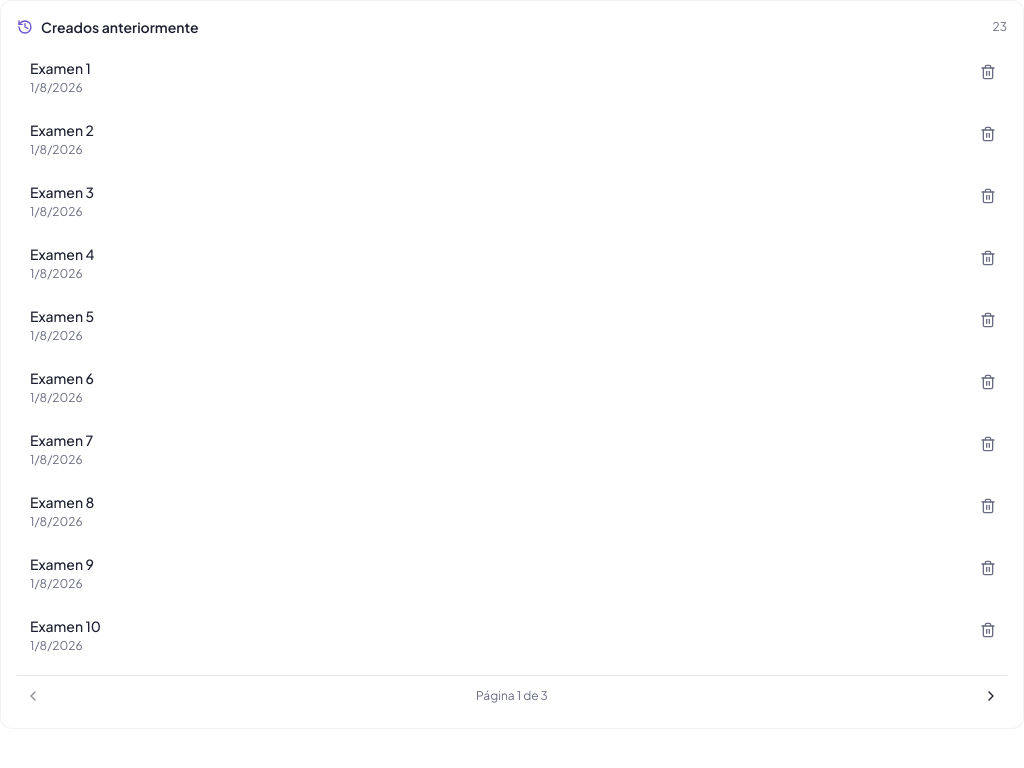
Test: Franja de historial por módulo › avanza y retrocede de página
Expected: the text "Examen 1" is shown, [30,59,91,77]
Click the button named "Página siguiente" at coordinates (991, 696), box [975,680,1007,712]
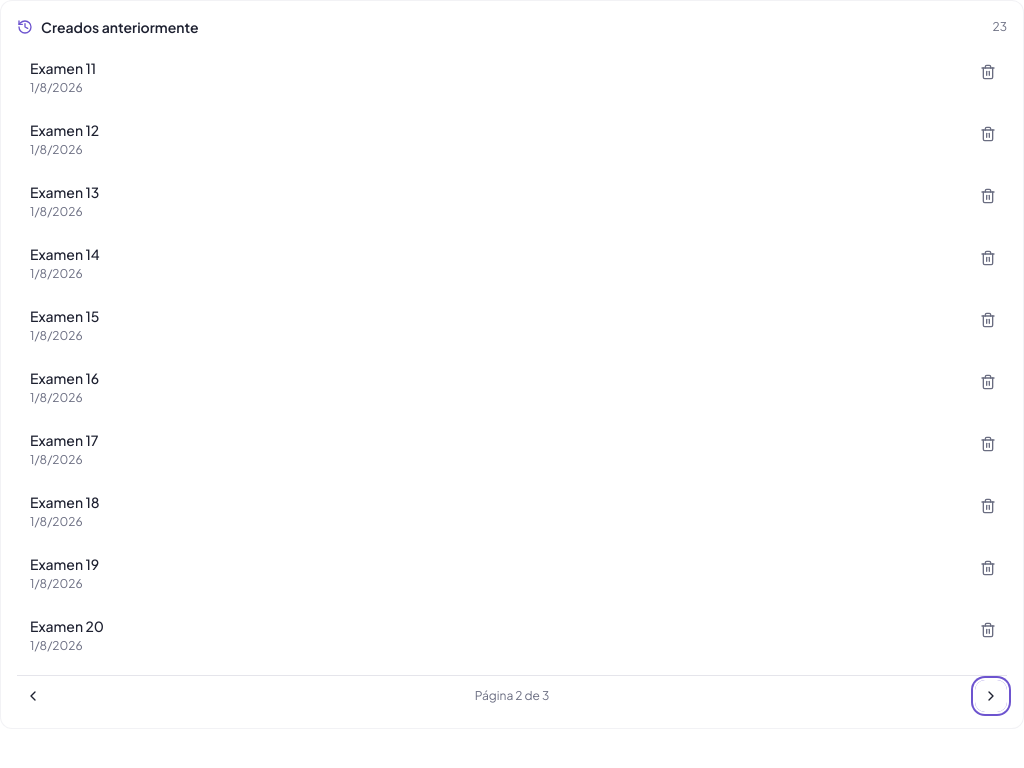
Result: the text "Examen 11" is shown at [30,59,96,77]
Result: the text "Página 2 de 3" is shown at [475,688,549,704]
Click the button named "Página siguiente" at coordinates (991, 696), box [975,680,1007,712]
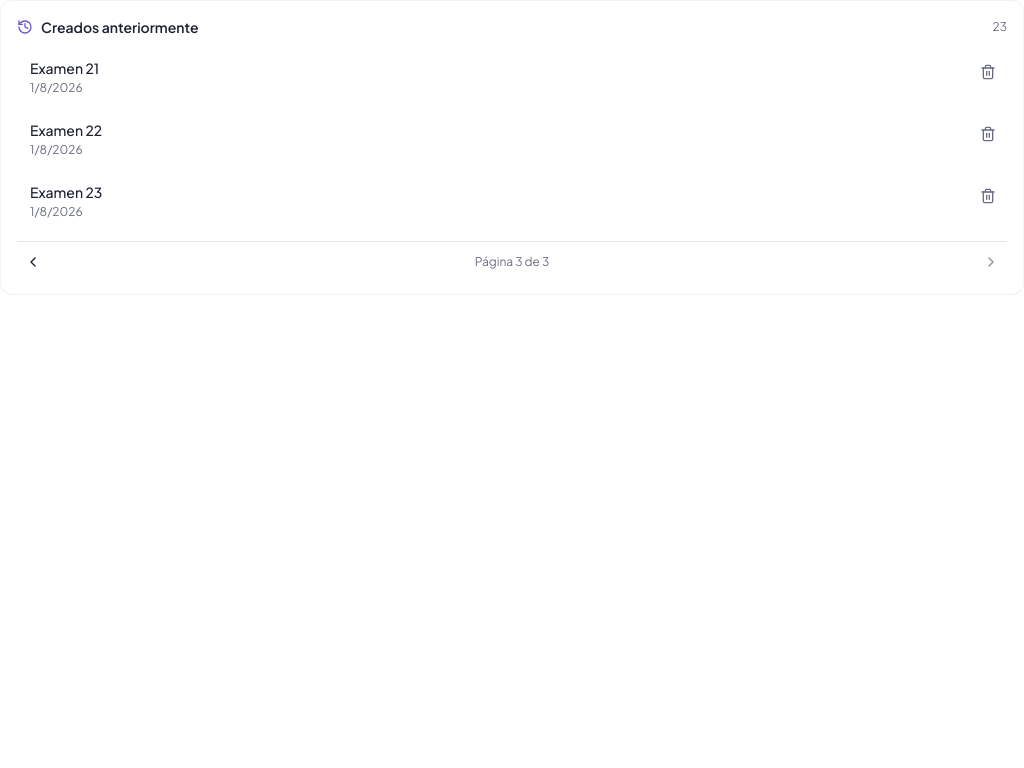
Result: the text "Página 3 de 3" is shown at [475,254,549,270]
Result: the text "Examen 23" is shown at [30,183,102,201]
Result: the button named "Página siguiente" is disabled at [975,246,1007,278]
Click the button named "Página anterior" at coordinates (33, 262), box [17,246,49,278]
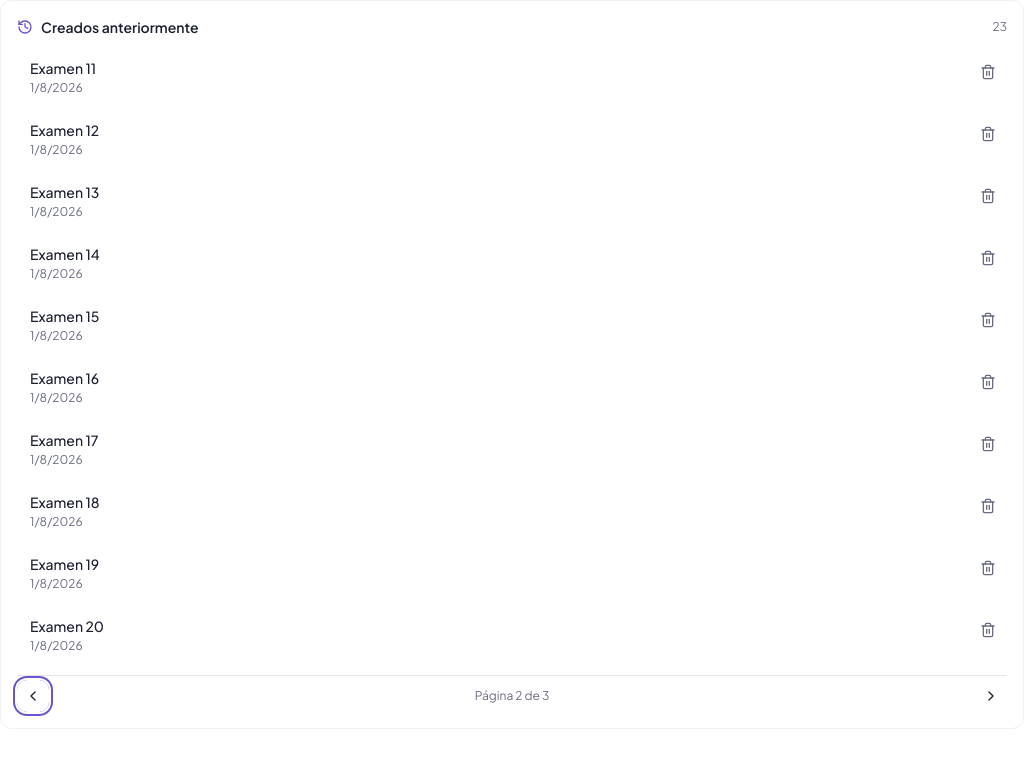
Result: the text "Página 2 de 3" is shown at [475,688,549,704]
